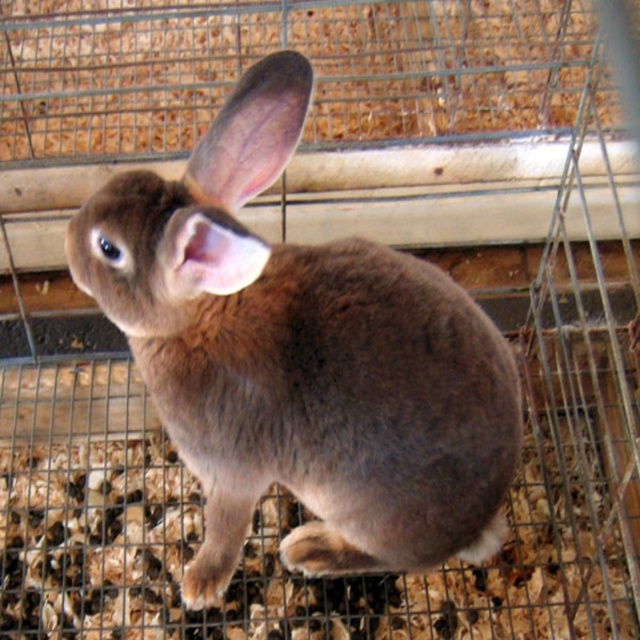Rabbit: (65, 49, 519, 604)
